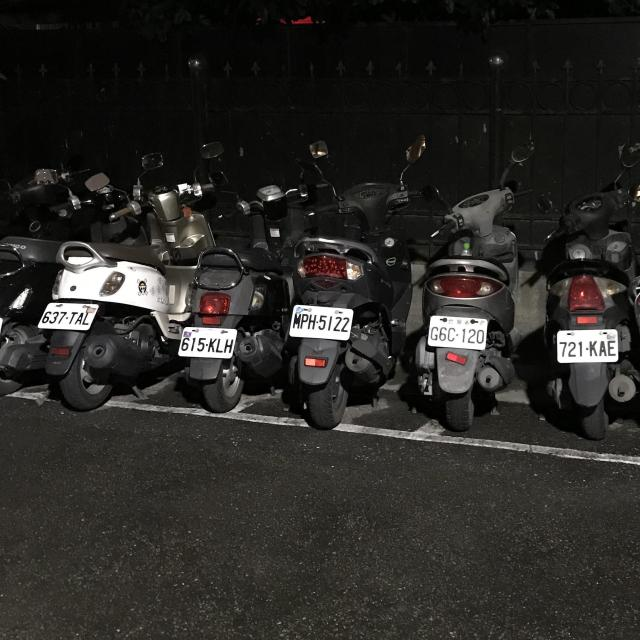W: (288, 300, 354, 342), (424, 312, 492, 352), (554, 326, 622, 365), (176, 323, 240, 360), (37, 297, 100, 334)
